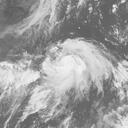cyclone: (40, 37, 107, 93)
